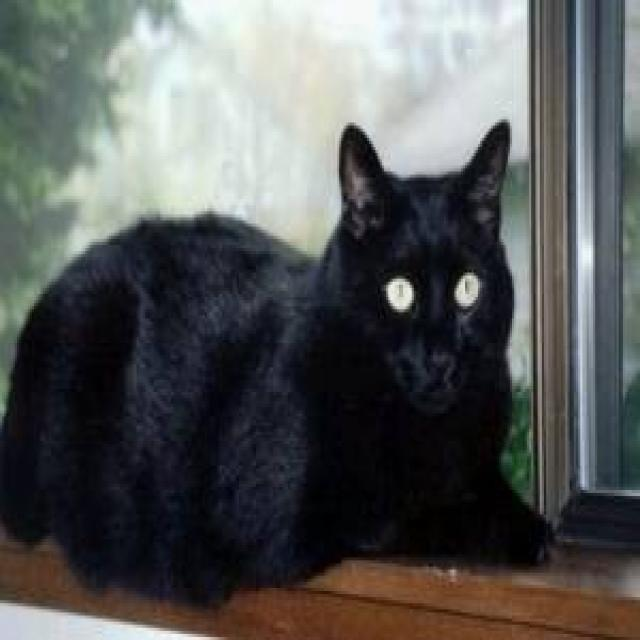Bombay: (336, 119, 516, 424)
